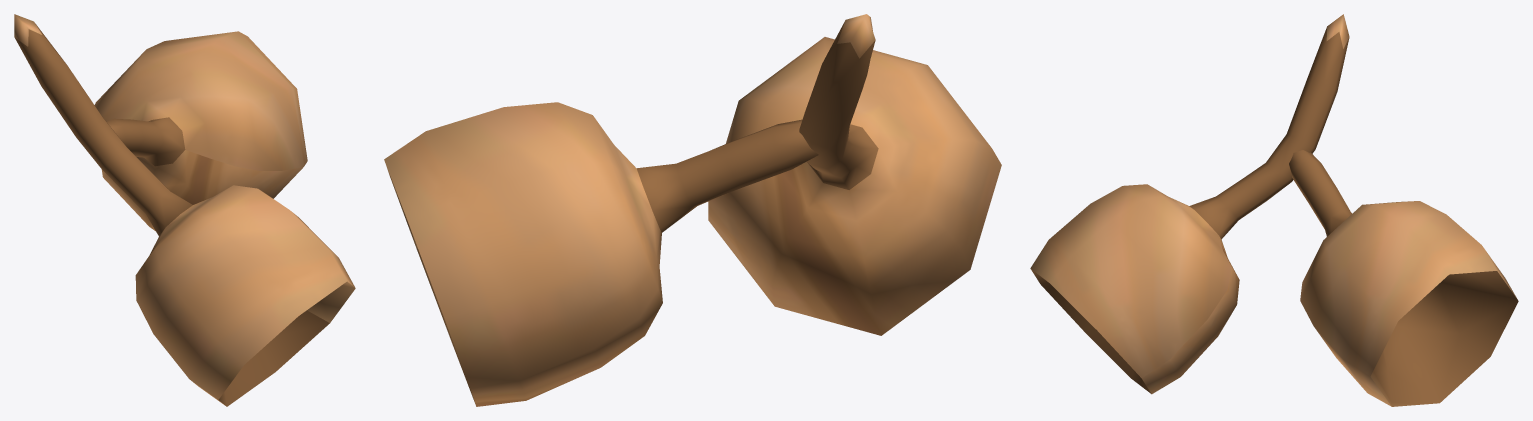
File: GumNut.fbx
3 views of the same model, side by side, from view 1: azimuth 30°, elevation 25°; view 2: azimuth 150°, elevation 25°; view 3: azimuth 270°, elevation 25° (orthographic). The views are drawn at different scales.
Visible parts, largest first — view 1: Bushlime; view 2: Bushlime; view 3: Bushlime.
Part boxes in pixels (x1,y1,x2,y2): Bushlime: (14, 14, 355, 406); Bushlime: (384, 14, 1001, 406); Bushlime: (1030, 14, 1518, 406).
Size of the model in its own units: 0.5481 by 0.5587 by 0.7771.
